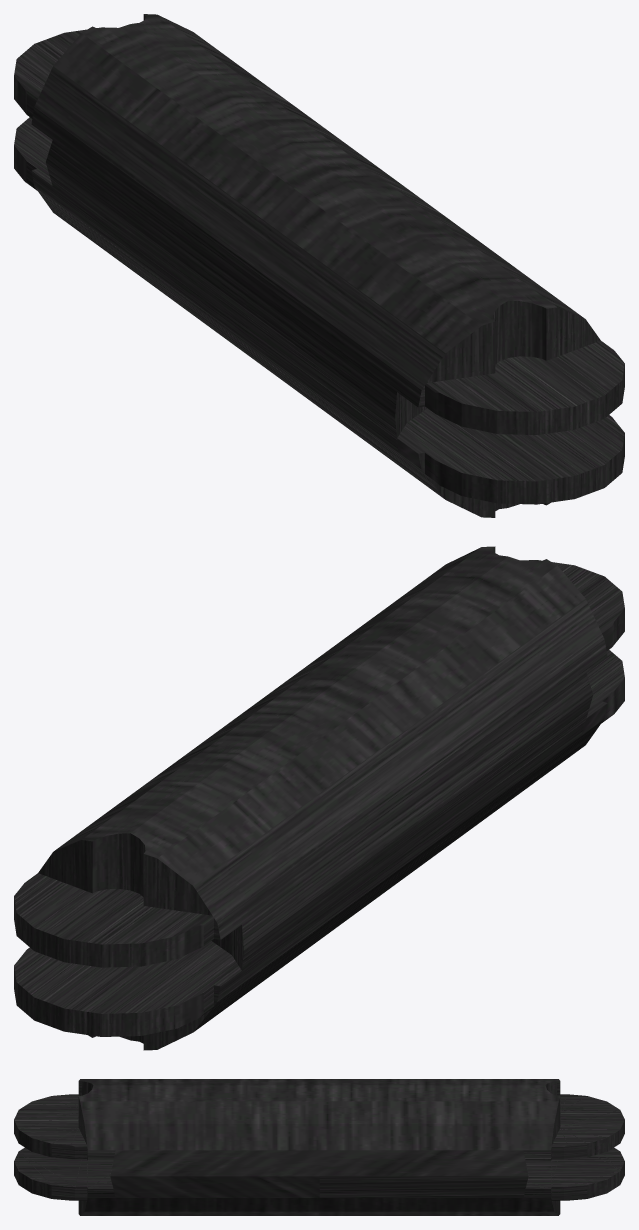
The model's file is coxa.dae.
The picture shows the model from 3 angles, top to bottom: view 1: azimuth 30°, elevation 25°; view 2: azimuth 150°, elevation 25°; view 3: azimuth 270°, elevation 25°; orthographic projection. The views are drawn at different scales.
Visible parts, largest first — view 1: Coxa_Front; view 2: Coxa_Front; view 3: Coxa_Front.
Part boxes in pixels (x1,y1,x2,y2): Coxa_Front: (14, 14, 624, 517); Coxa_Front: (14, 546, 624, 1050); Coxa_Front: (14, 1079, 624, 1215).
Bounding box in the file's own units: 0.224 × 1 × 0.224.
1 material, 1 textured.
